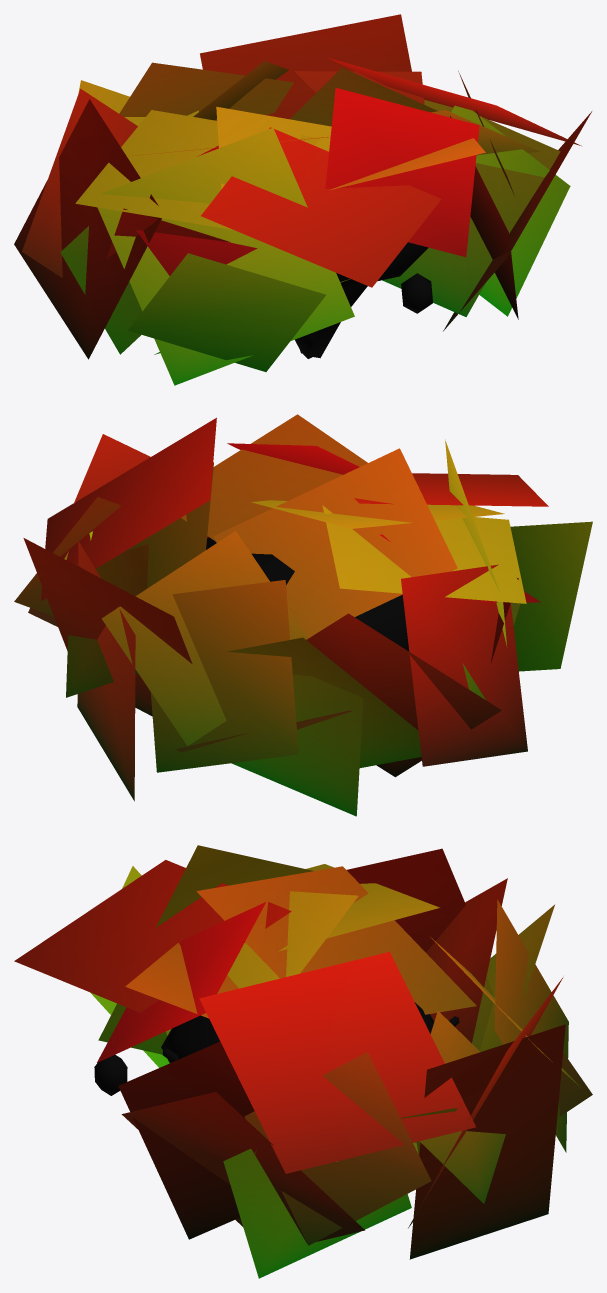
Rendered from env_bush_bg_a.fbx.
3 views of the same model, one above another, from view 1: azimuth 30°, elevation 25°; view 2: azimuth 150°, elevation 25°; view 3: azimuth 270°, elevation 25° (orthographic). The views are drawn at different scales.
Visible parts, largest first — view 1: env_bush_bg_a; view 2: env_bush_bg_a; view 3: env_bush_bg_a.
Boxes of the visible parts, x1,y1,x2,y2 form: env_bush_bg_a: [14, 14, 591, 385]; env_bush_bg_a: [14, 414, 592, 816]; env_bush_bg_a: [14, 845, 592, 1278].
Size of the model in its own units: 2.89 by 1.57 by 2.67.
